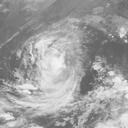cyclone: (17, 31, 83, 117)
